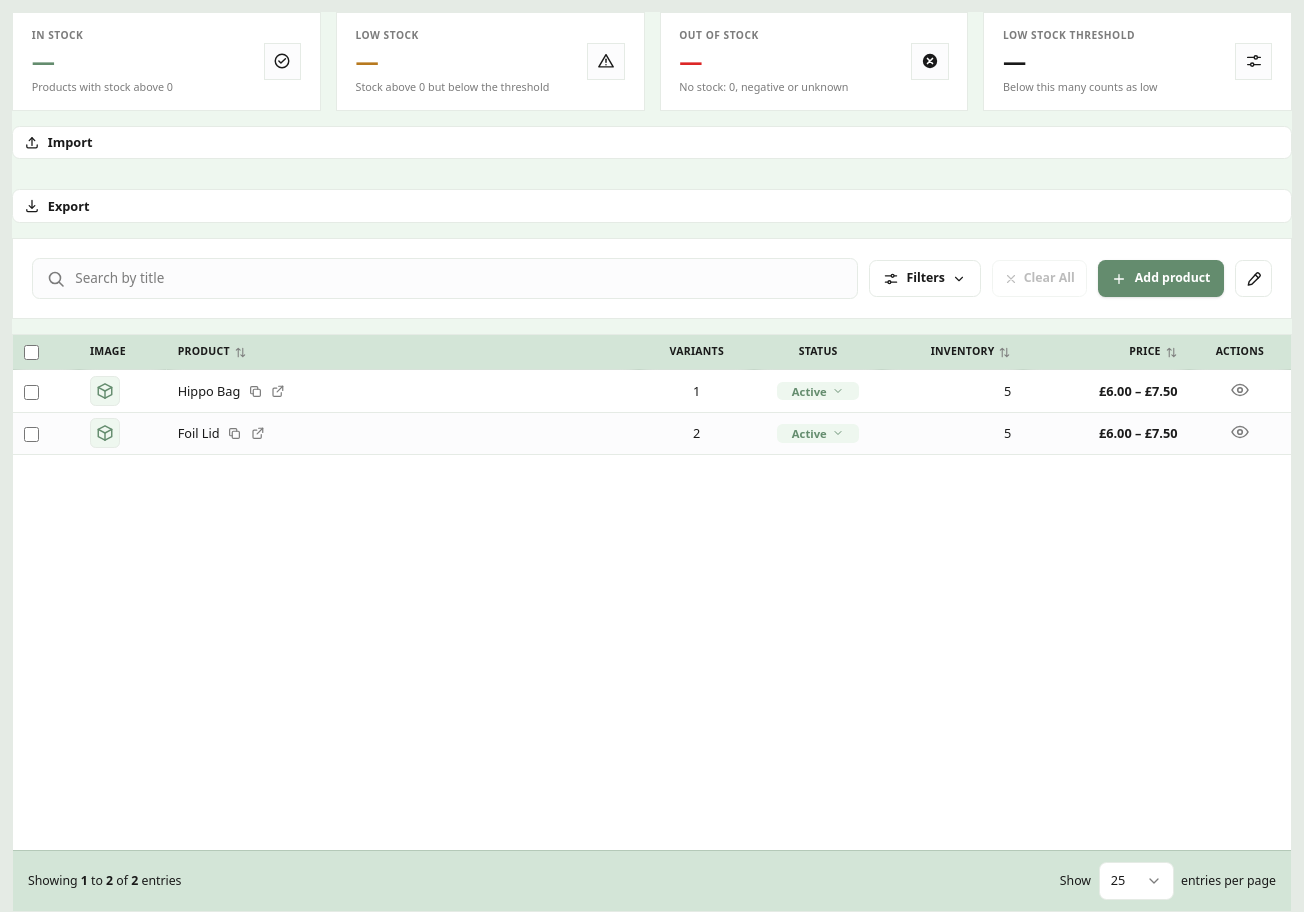
Test case: editing products in bulk › offers "Edit this page" and "Edit selected" under one menu
Expected: the checkbox named "Select Hippo Bag" is shown, [24,385,39,400]
Click the button named "Edit in bulk" at [1254, 279], box [1235,260,1272,297]
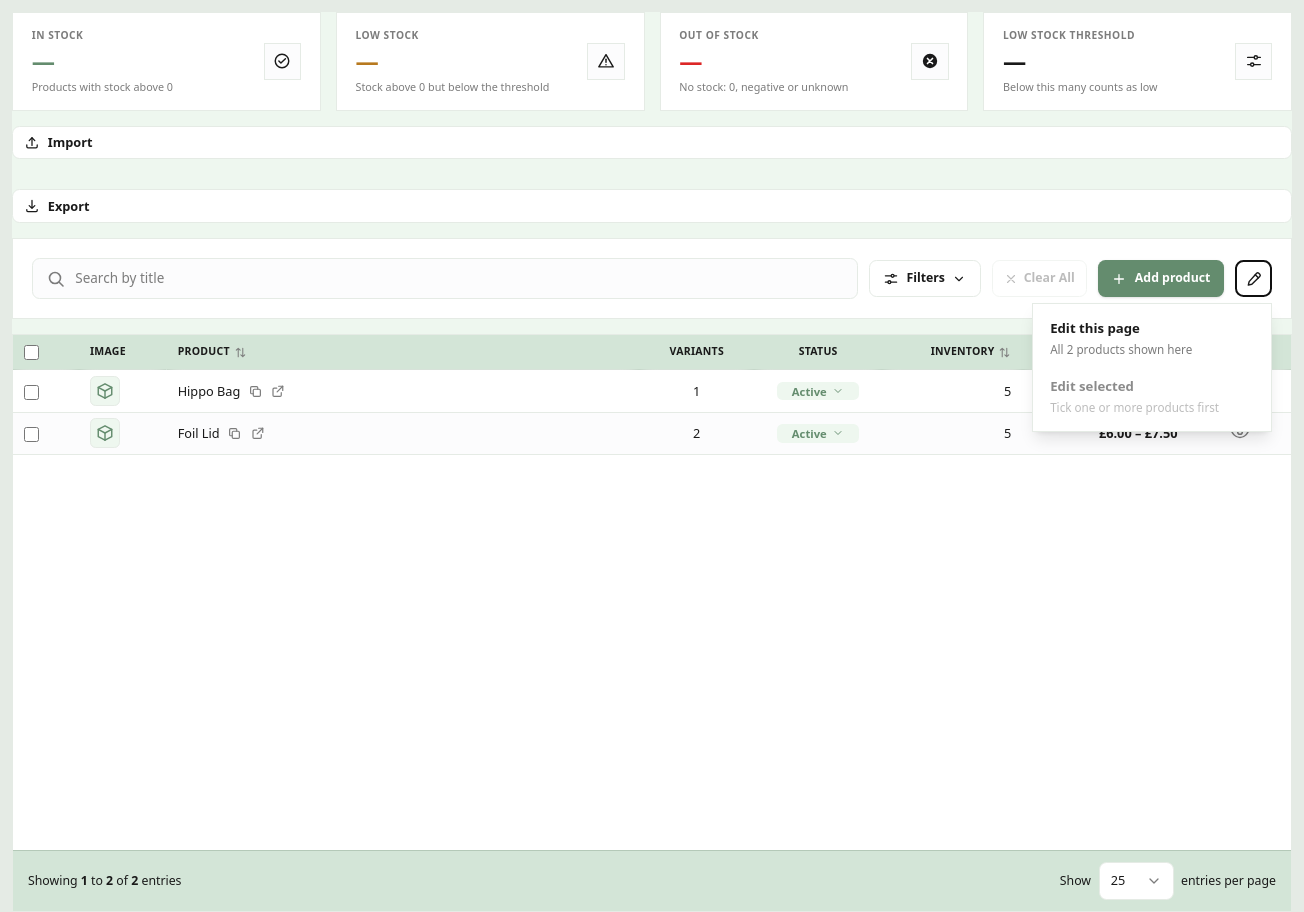
Expected: the menu item "Edit this page All 2 products shown here" is enabled, [1039,310,1266,368]
Expected: the menu item "Edit selected Tick one or more products first" is disabled, [1039,368,1266,426]
